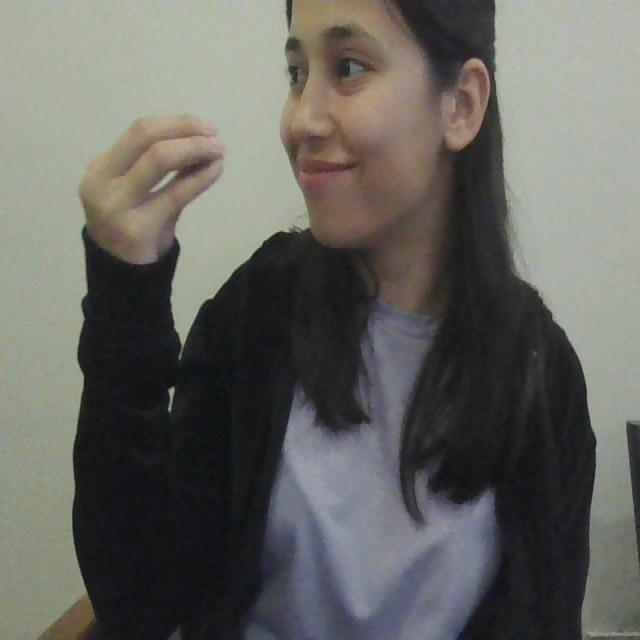Yemek: (77, 110, 343, 224)
